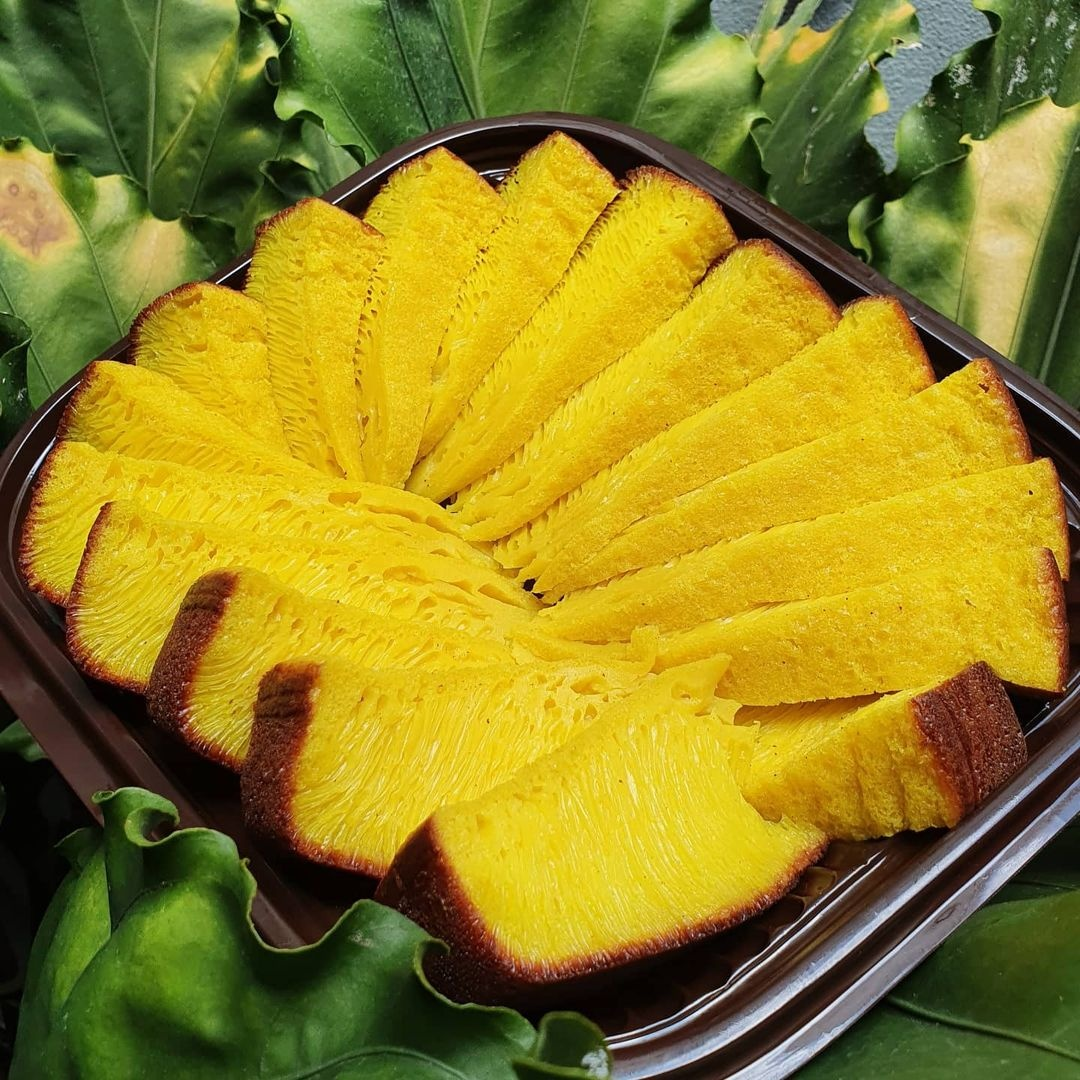bika_ambon: (66, 288, 1045, 823), (402, 693, 795, 962)
